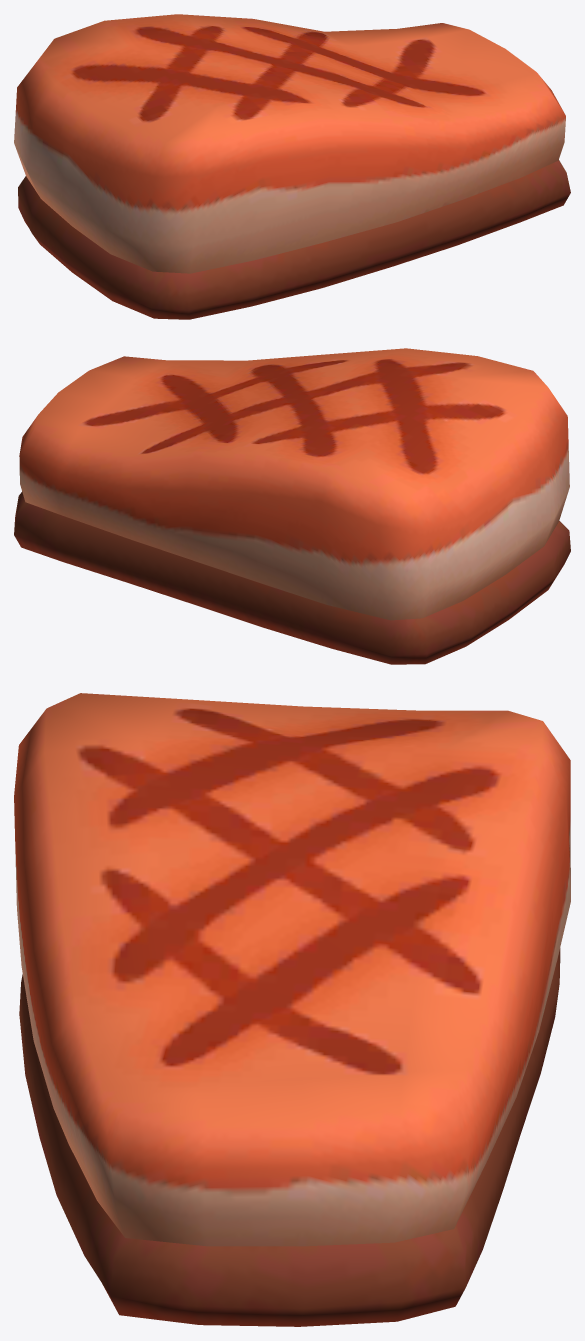
Rendered from Grilled Salmon.obj.
3 views of the same model, one above another, from view 1: azimuth 30°, elevation 25°; view 2: azimuth 150°, elevation 25°; view 3: azimuth 270°, elevation 25° (orthographic). The views are drawn at different scales.
Visible parts, largest first — view 1: Grilled_Salmon; view 2: Grilled_Salmon; view 3: Grilled_Salmon.
Part boxes in pixels (<box>): Grilled_Salmon: <box>14,14,570,319</box>; Grilled_Salmon: <box>14,348,570,664</box>; Grilled_Salmon: <box>14,693,570,1326</box>.
Bounding box in the file's own units: 0.2103 × 0.076 × 0.1296.
Materials: 1 (1 with a texture image).
